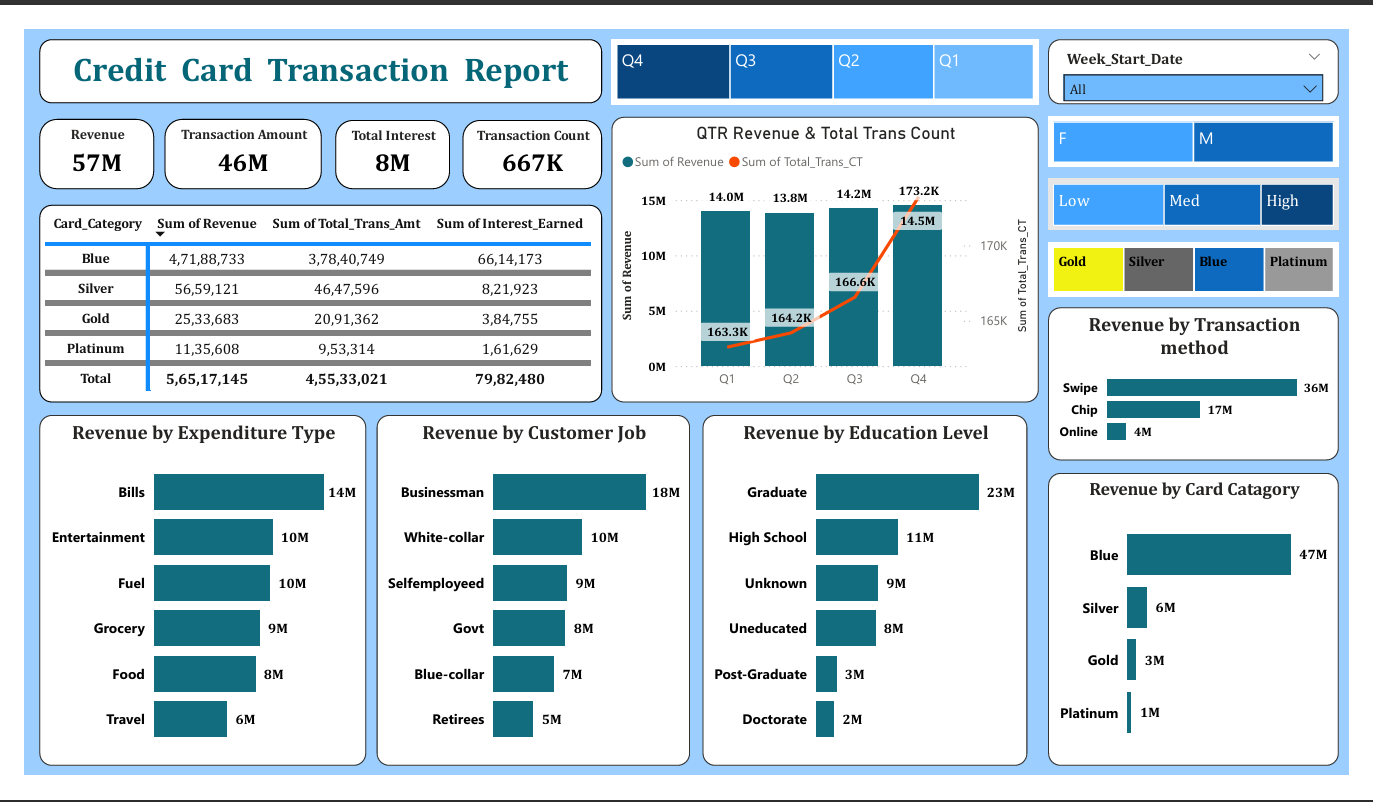

What the dashboard file says about the page in this screenshot:
{"tool":"powerbi","page":{"name":"Credit Card Transaction","canvas":[1280,720],"ordinal":0},"visuals":[{"type":"textbox","box":[13.6,8.7,544.6,62],"z":0},{"type":"lineStackedColumnComboChart","title":"QTR Revenue & Total Trans Count","fields":{"Category":["credit_card.Qtr"],"Y":["Sum(credit_card.Revenue)"],"Y2":["Sum(credit_card.Total_Trans_CT)"]},"box":[566.9,84.4,413.1,275.4],"z":1000},{"type":"barChart","title":"Revenue by Expenditure Type","fields":{"Y":["Sum(credit_card.Revenue)"],"Category":["credit_card.Exp Type"]},"box":[13.6,372.2,316.3,338.7],"z":2000},{"type":"barChart","title":"Revenue by Education Level","fields":{"Y":["Sum(credit_card.Revenue)"],"Category":["customer.Education_Level"]},"box":[655,372.2,313.9,338.7],"z":3000},{"type":"barChart","title":"Revenue by Customer Job","fields":{"Y":["Sum(credit_card.Revenue)"],"Category":["customer.Customer_Job"]},"box":[339.9,372.2,302.7,338.7],"z":4000},{"type":"card","title":"Revenue","fields":{"Values":["Sum(credit_card.Revenue)"]},"box":[13.6,85.6,111.6,68.2],"z":5000},{"type":"barChart","title":"Revenue by Transaction method","fields":{"Y":["Sum(credit_card.Revenue)"],"Category":["credit_card.Use Chip"]},"box":[988.7,268,281.6,147.6],"z":6000},{"type":"pivotTable","fields":{"Rows":["credit_card.Card_Category"],"Values":["Sum(credit_card.Revenue)","Sum(credit_card.Total_Trans_Amt)","Sum(credit_card.Interest_Earned)"]},"box":[13.6,168.7,544.6,191],"z":7000},{"type":"card","title":"Transaction Amount","fields":{"Values":["Sum(credit_card.Total_Trans_Amt)"]},"box":[135.2,85.6,151.3,68.2],"z":8000},{"type":"card","title":"Total Interest","fields":{"Values":["Sum(credit_card.Interest_Earned)"]},"box":[300.2,86.8,110.4,67],"z":9000},{"type":"card","title":"Transaction Count","fields":{"Values":["Sum(credit_card.Total_Trans_CT)"]},"box":[423,86.8,135.2,67],"z":10000},{"type":"barChart","title":"Revenue by Card Catagory","fields":{"Y":["Sum(credit_card.Revenue)"],"Category":["credit_card.Card_Category"]},"box":[988.7,428,281.6,282.8],"z":11000},{"type":"slicer","fields":{"Values":["credit_card.Week_Start_Date"]},"box":[988.7,8.7,281.6,63.3],"z":12000},{"type":"treemap","fields":{"Group":["credit_card.Qtr"],"Values":["Avg(credit_card.Client_Num)"]},"box":[566.9,8.7,413.1,63.3],"z":13000},{"type":"treemap","fields":{"Values":["Avg(credit_card.Client_Num)"],"Group":["customer.Gender"]},"box":[988.7,84.4,281.6,48.4],"z":14000},{"type":"treemap","fields":{"Values":["Avg(credit_card.Client_Num)"],"Group":["credit_card.Card_Category"]},"box":[988.7,204.7,281.6,53.3],"z":15000},{"type":"treemap","fields":{"Group":["customer.IncomeGroup"],"Values":["CountNonNull(credit_card.Client_Num)"]},"box":[988.7,143.9,281.6,49.6],"z":16000}]}

Visuals, with their boxes on the page's 1280x720 design canvas (x1, y1, x2, y2). These are canvas units, not pixel positions in the 1373x802 screenshot, which may show the page scaled, cropped or inside an application window:
textbox: left=14, top=9, right=558, bottom=71
"QTR Revenue & Total Trans Count" lineStackedColumnComboChart: left=567, top=84, right=980, bottom=360
"Revenue by Expenditure Type" barChart: left=14, top=372, right=330, bottom=711
"Revenue by Education Level" barChart: left=655, top=372, right=969, bottom=711
"Revenue by Customer Job" barChart: left=340, top=372, right=643, bottom=711
"Revenue" card: left=14, top=86, right=125, bottom=154
"Revenue by Transaction method" barChart: left=989, top=268, right=1270, bottom=416
pivotTable - credit_card.Card_Category x Sum(credit_card.Revenue): left=14, top=169, right=558, bottom=360
"Transaction Amount" card: left=135, top=86, right=286, bottom=154
"Total Interest" card: left=300, top=87, right=411, bottom=154
"Transaction Count" card: left=423, top=87, right=558, bottom=154
"Revenue by Card Catagory" barChart: left=989, top=428, right=1270, bottom=711
slicer - credit_card.Week_Start_Date: left=989, top=9, right=1270, bottom=72
treemap - credit_card.Qtr x Avg(credit_card.Client_Num): left=567, top=9, right=980, bottom=72
treemap - Avg(credit_card.Client_Num) x customer.Gender: left=989, top=84, right=1270, bottom=133
treemap - Avg(credit_card.Client_Num) x credit_card.Card_Category: left=989, top=205, right=1270, bottom=258
treemap - customer.IncomeGroup x CountNonNull(credit_card.Client_Num): left=989, top=144, right=1270, bottom=194
